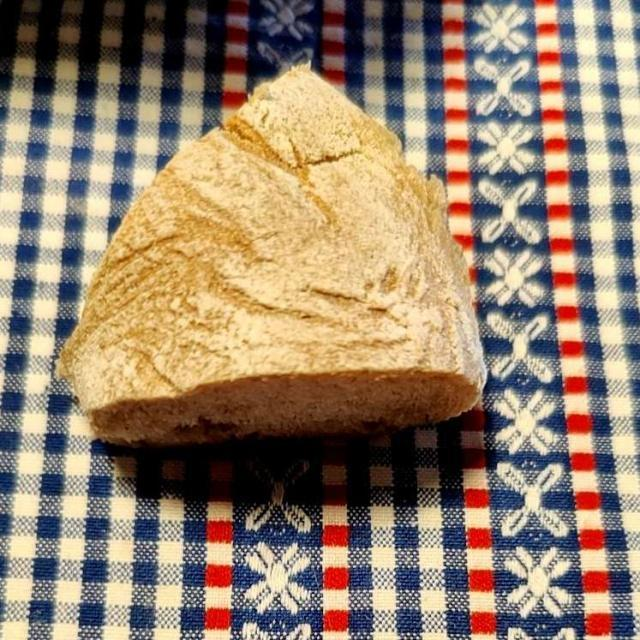bread: (68, 71, 479, 442)
